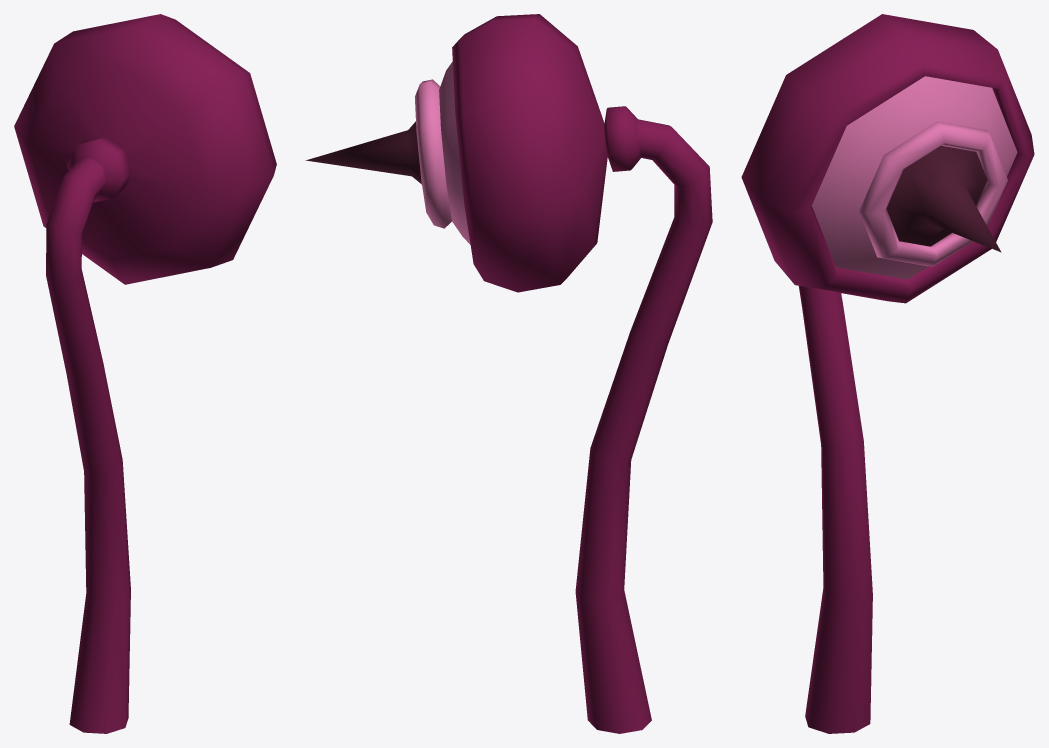
File: Plant_1_5_purple.fbx
The picture shows the model from 3 angles, left to right: view 1: azimuth 30°, elevation 25°; view 2: azimuth 150°, elevation 25°; view 3: azimuth 270°, elevation 25°; orthographic projection. The views are drawn at different scales.
Visible parts, largest first — view 1: Plant_1_5_purple; view 2: Plant_1_5_purple; view 3: Plant_1_5_purple.
Boxes of the visible parts, x1,y1,x2,y2 form: Plant_1_5_purple: (14,14,276,733); Plant_1_5_purple: (305,14,712,733); Plant_1_5_purple: (741,14,1034,733).
Size of the model in its own units: 0.9973 by 2.17 by 0.7785.
